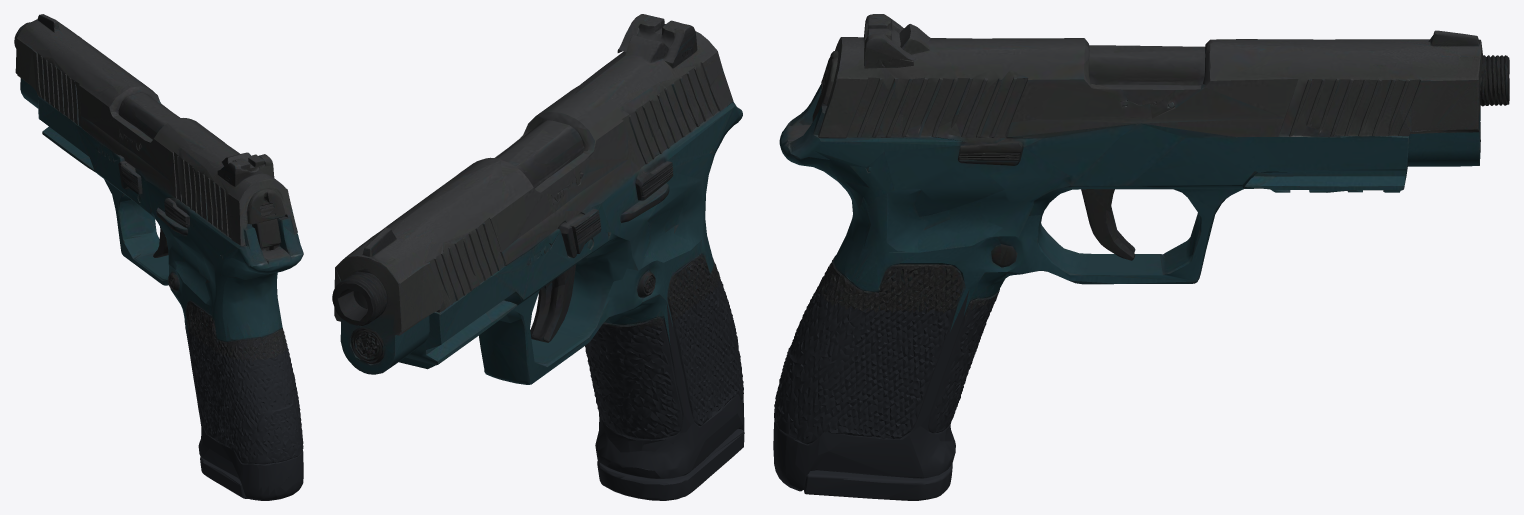
The model's file is pop-blaster.glb.
The picture shows the model from 3 angles, left to right: view 1: azimuth 30°, elevation 25°; view 2: azimuth 150°, elevation 25°; view 3: azimuth 270°, elevation 25°; orthographic projection. The views are drawn at different scales.
Visible parts, largest first — view 1: pop-blaster; view 2: pop-blaster; view 3: pop-blaster.
Part boxes in pixels (bbox=[...]): pop-blaster: bbox=[14, 14, 303, 500]; pop-blaster: bbox=[332, 14, 744, 500]; pop-blaster: bbox=[773, 14, 1509, 500].
Bounding box in the file's own units: 0.0829 × 0.3571 × 0.52.
Materials: 2 (1 with a texture image).
